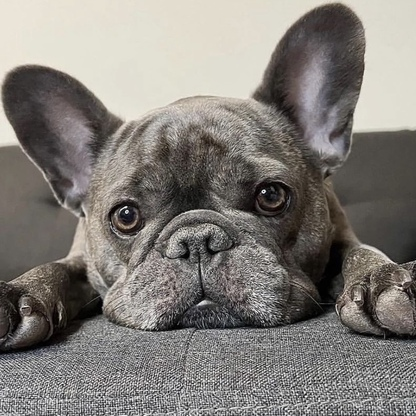bulldog: (19, 11, 384, 333)
